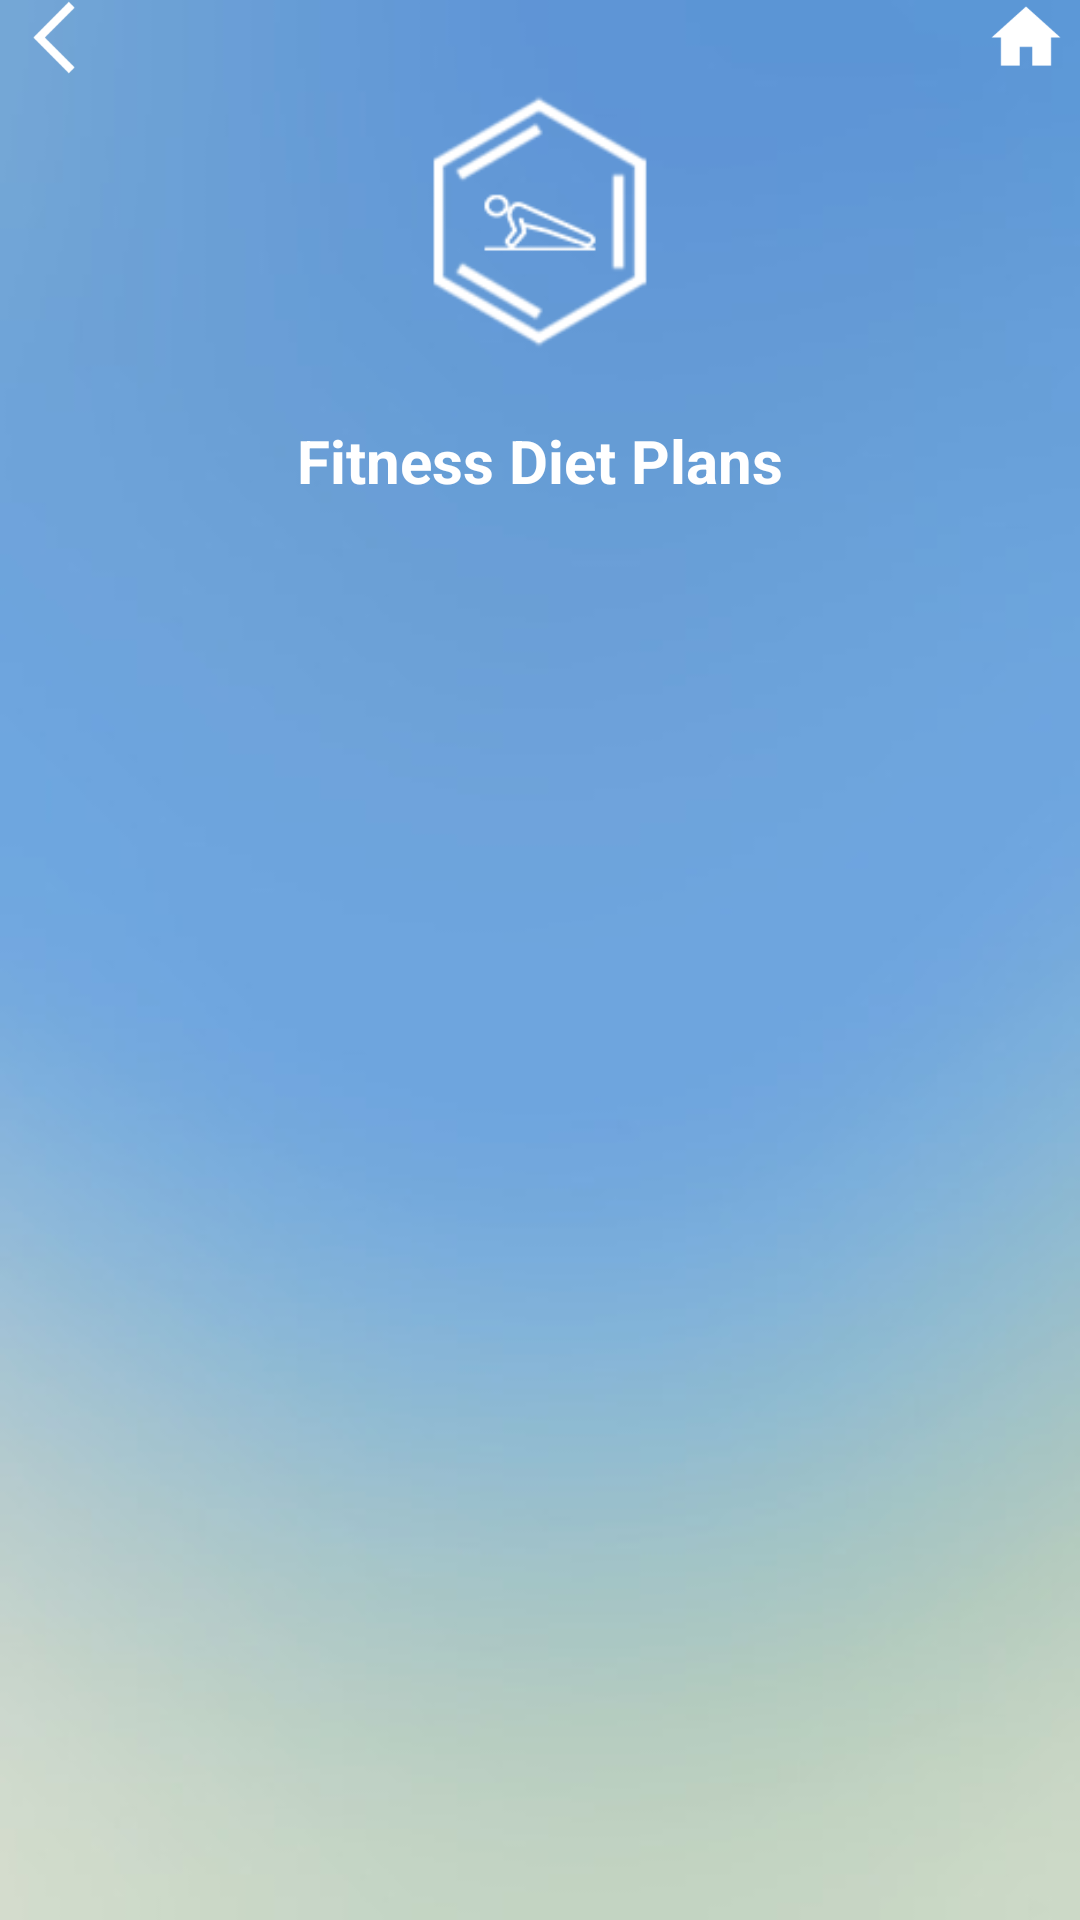

Icon bounding boxes for this 1080 × 1920 phone screenshot, format (x1, y1, x2, y2):
back: (33, 2, 75, 73)
home: (992, 7, 1060, 66)
